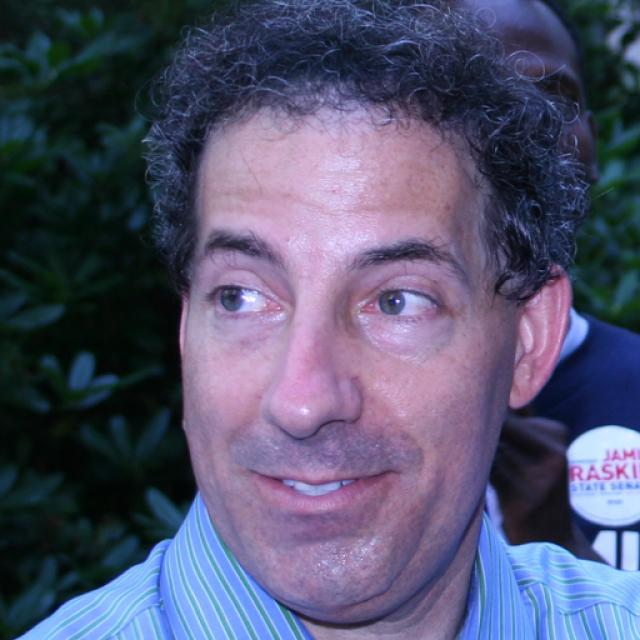content: (181, 93, 514, 608)
